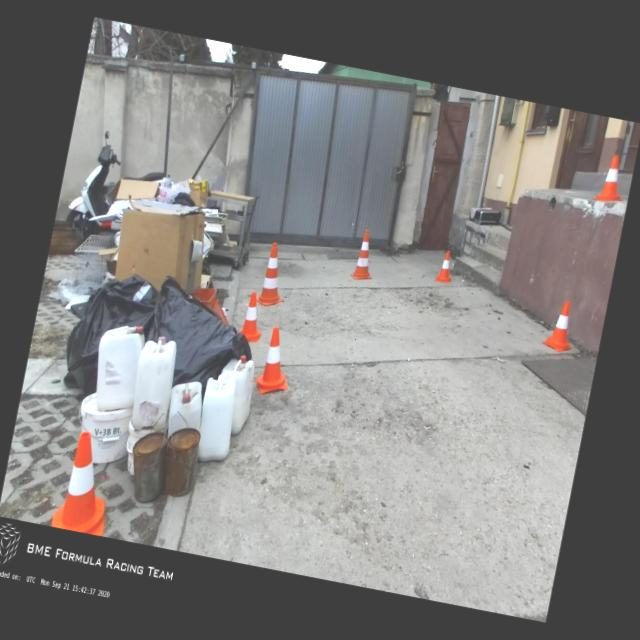large_orange_cone: (252, 240, 295, 309), (350, 228, 381, 282)
orange_cone: (50, 428, 121, 536), (254, 325, 298, 399), (541, 298, 581, 354), (238, 291, 269, 345), (595, 153, 627, 204), (435, 250, 457, 284)
